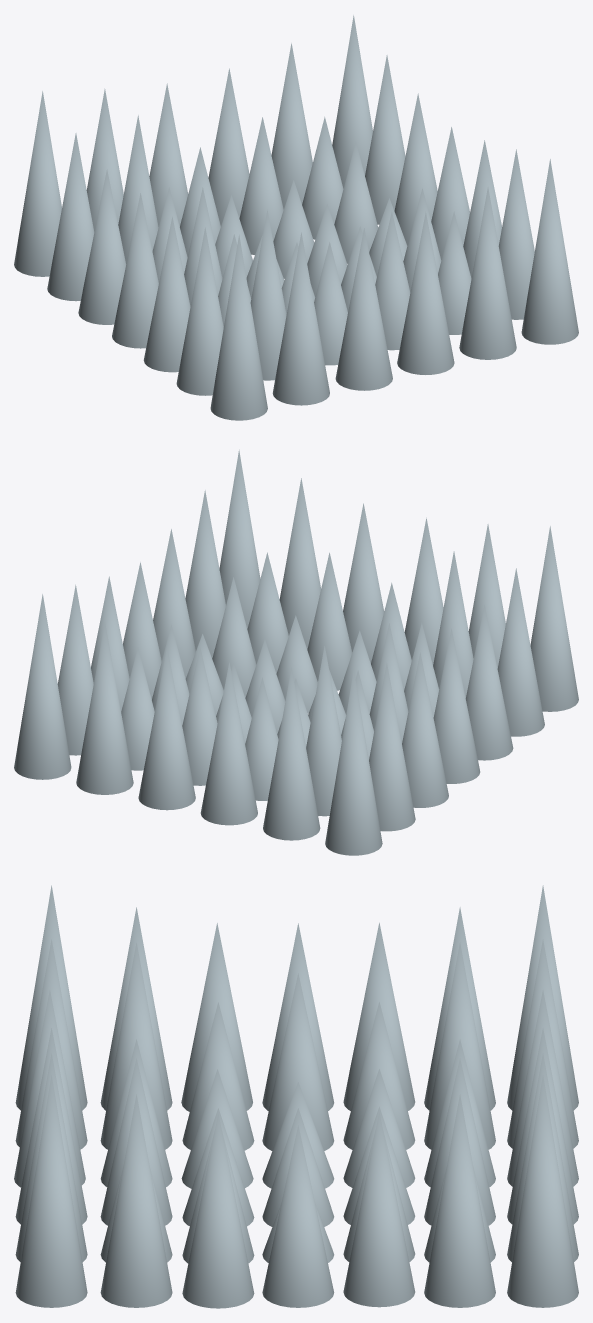
The model's file is spikes.fbx.
3 renders of one model, top to bottom at view 1: azimuth 30°, elevation 25°; view 2: azimuth 150°, elevation 25°; view 3: azimuth 270°, elevation 25°, orthographic. The views are drawn at different scales.
Parts seen in each view (by area): view 1: tileSpikes_large; view 2: tileSpikes_large; view 3: tileSpikes_large.
Part boxes in pixels (<box>): tileSpikes_large: <box>14,15,578,420</box>; tileSpikes_large: <box>14,449,578,855</box>; tileSpikes_large: <box>14,885,578,1308</box>.
Size of the model in its own units: 292 by 134 by 314.
